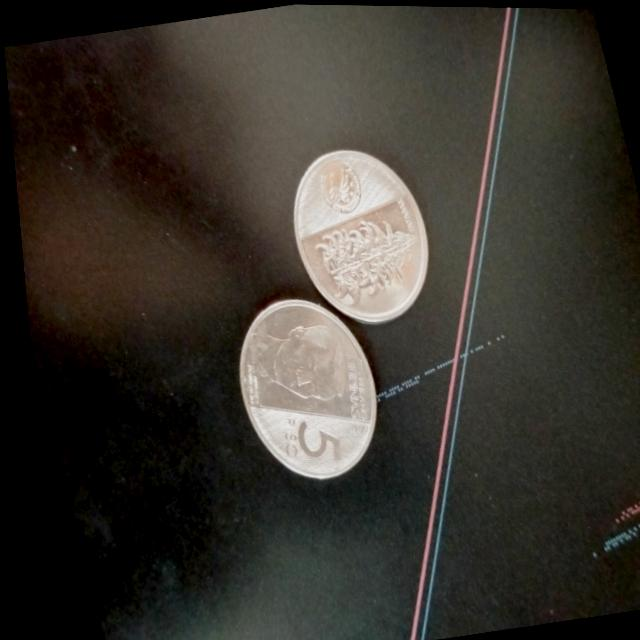5_New_Back: (303, 207, 433, 324)
5_New_Front: (265, 394, 341, 468)
